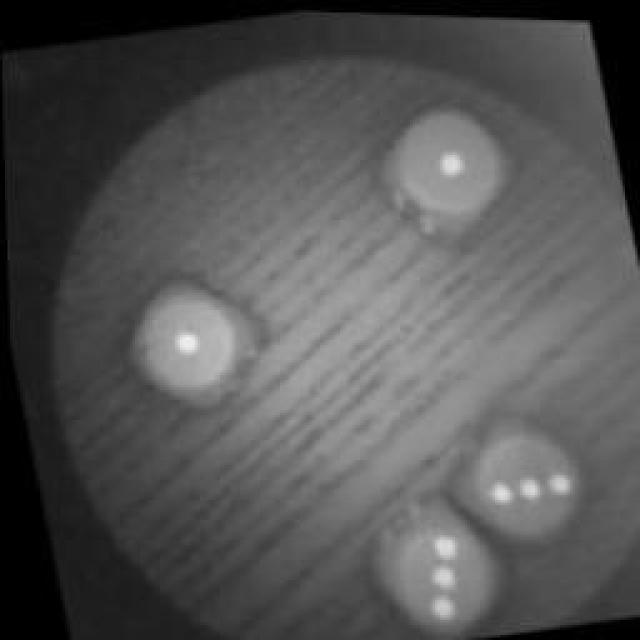dice_1: (365, 79, 530, 251), (110, 260, 275, 420)
dice_3: (437, 392, 605, 556), (350, 485, 515, 640)
